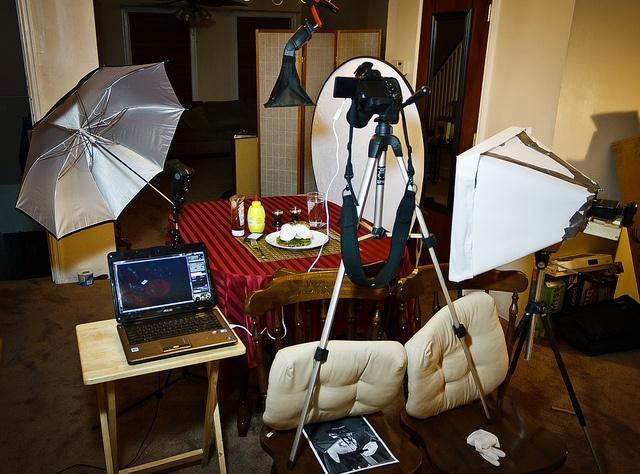Kursi: (395, 261, 567, 473), (245, 270, 423, 473)
